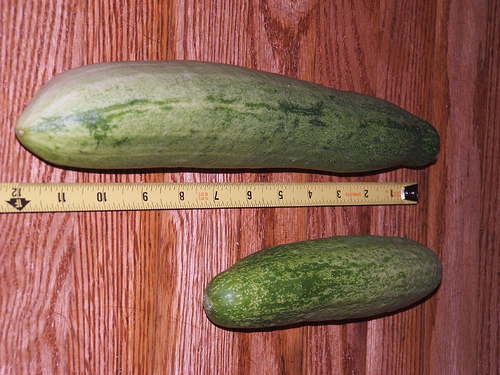cucumber: (16, 60, 441, 173), (201, 237, 440, 331)
